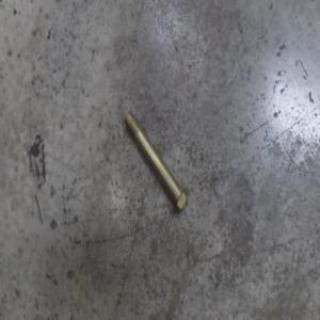Bolttrack_idkeyframe: (123, 108, 189, 215)
